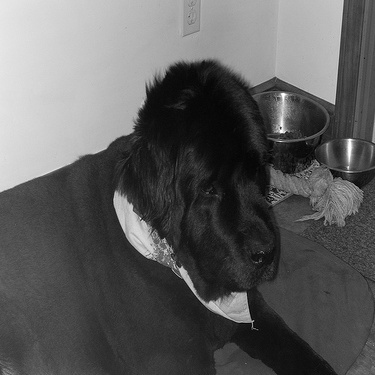dog: (1, 55, 343, 373)
